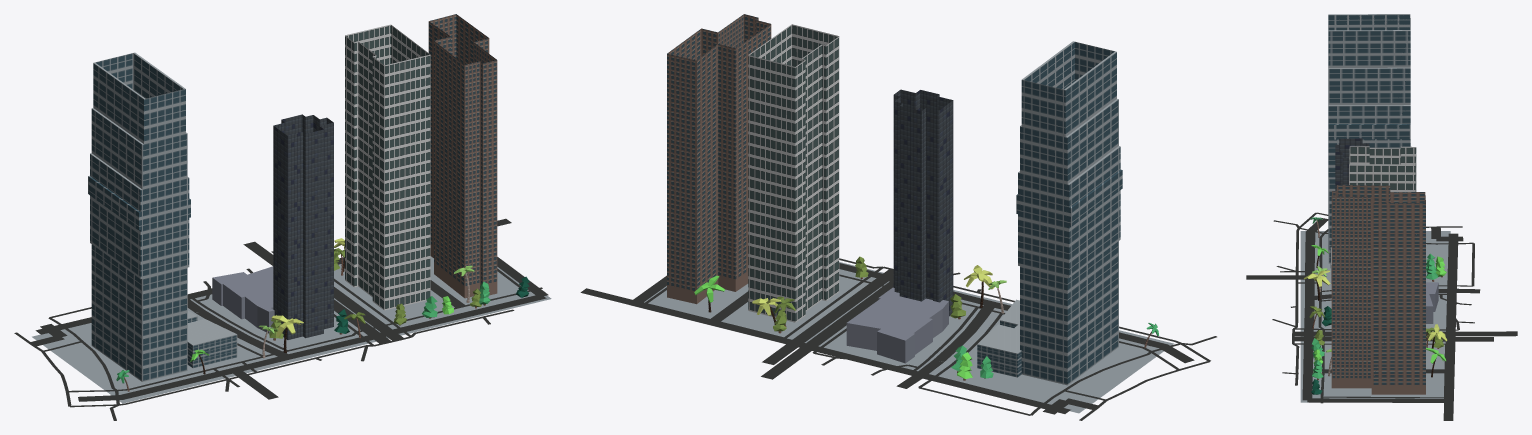
Rendered from BC_Env1.fbx.
3 views of the same model, side by side, from view 1: azimuth 30°, elevation 25°; view 2: azimuth 150°, elevation 25°; view 3: azimuth 270°, elevation 25° (orthographic). The views are drawn at different scales.
Visible parts, largest first — view 1: BC_Env1; view 2: BC_Env1; view 3: BC_Env1.
Part boxes in pixels (x1=…): BC_Env1: x1=14, y1=14, x2=551, y2=420; BC_Env1: x1=580, y1=14, x2=1216, y2=420; BC_Env1: x1=1246, y1=14, x2=1517, y2=420.
Size of the model in its own units: 9715 by 5091 by 5343.
